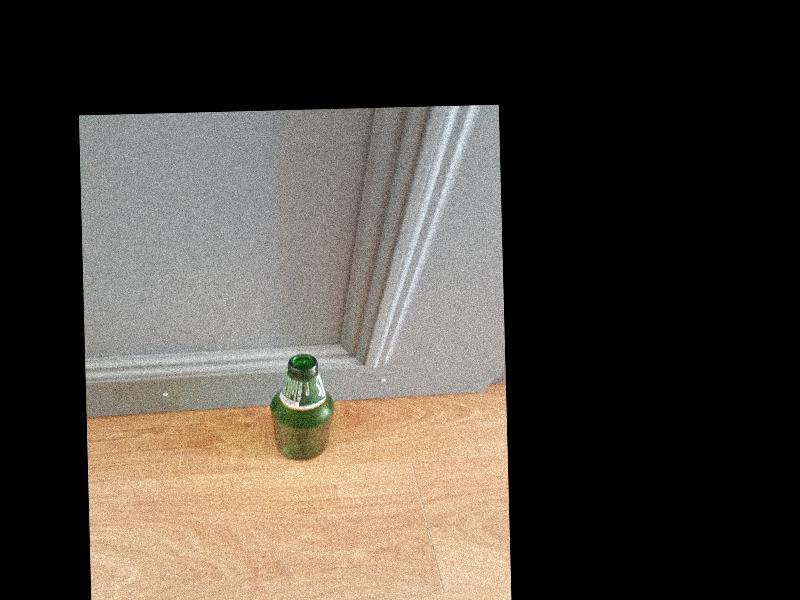Beer: (268, 353, 335, 461)
